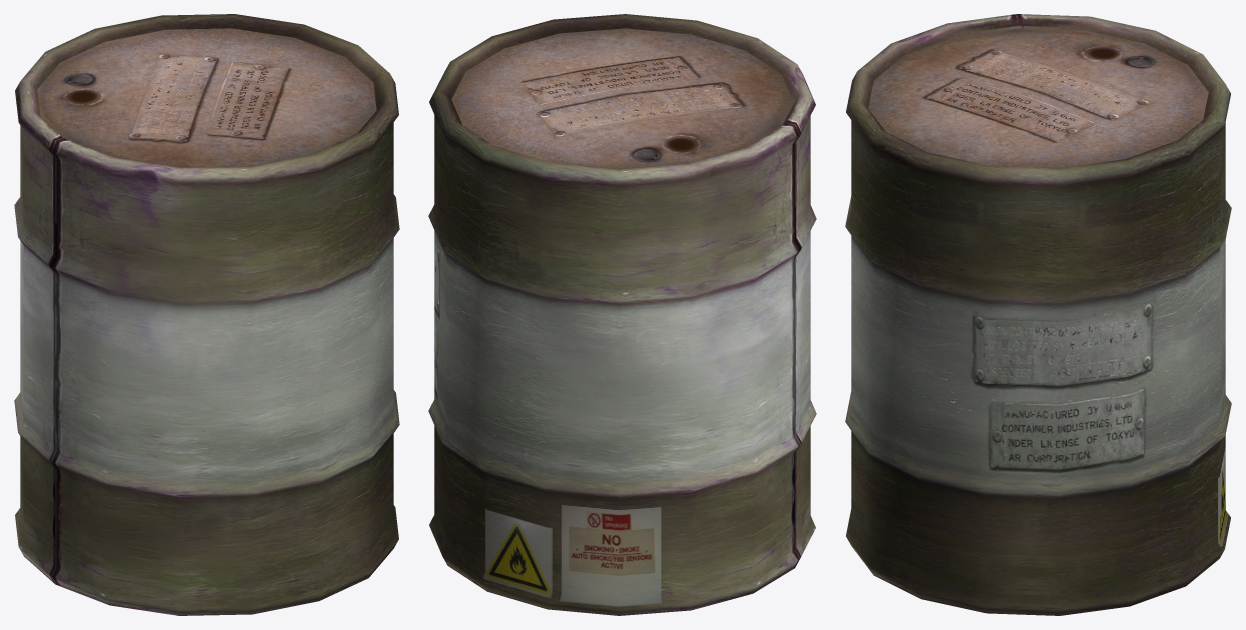
File: s63kmo28.obj
3 views of the same model, side by side, from view 1: azimuth 30°, elevation 25°; view 2: azimuth 150°, elevation 25°; view 3: azimuth 270°, elevation 25° (orthographic).
Parts seen in each view (by area): view 1: drum_drumShape.001; view 2: drum_drumShape.001; view 3: drum_drumShape.001.
Boxes of the visible parts, <box> form: drum_drumShape.001: <box>14,14,399,615</box>; drum_drumShape.001: <box>428,14,816,615</box>; drum_drumShape.001: <box>845,14,1231,615</box>.
Bounding box in the file's own units: 0.9551 × 1.21 × 0.9551.
1 material, 1 textured.
